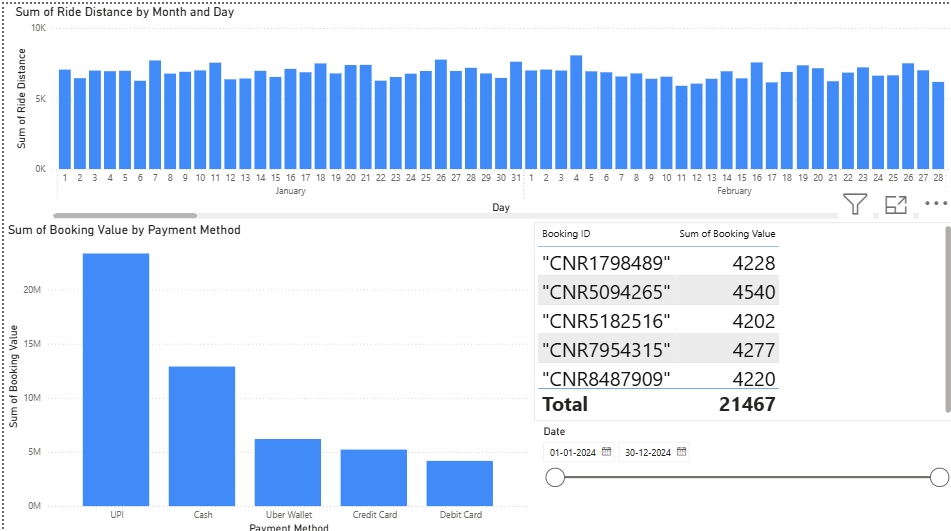

Layout of this report page (visuals, bound fields, positions):
{"tool":"powerbi","page":{"name":"Revenue","canvas":[1280,720],"ordinal":3},"visuals":[{"type":"columnChart","fields":{"Category":["rideBookings.Date.Variation.Date Hierarchy.Month","rideBookings.Date.Variation.Date Hierarchy.Day"],"Y":["Sum(rideBookings.Ride Distance)"]},"box":[10.8,0,1269,294.8],"z":0},{"type":"columnChart","fields":{"Category":["rideBookings.Payment Method"],"Y":["Sum(rideBookings.Booking Value)"]},"box":[0,294.8,713.6,426],"z":1000},{"type":"slicer","fields":{"Values":["rideBookings.Date"]},"box":[713.6,562.6,566.2,158.2],"z":2000},{"type":"tableEx","fields":{"Values":["rideBookings.Booking ID","Sum(rideBookings.Booking Value)"]},"box":[713.6,294.8,566.2,267.8],"z":3000}]}

Visuals, with their boxes in screenshot pixels (x1, y1, x2, y2), scaled from the page's 1280x720 canvas onto the 951x531 screenshot:
columnChart - rideBookings.Date.Variation.Date Hierarchy.Month x rideBookings.Date.Variation.Date Hierarchy.Day: <region>8, 0, 950, 217</region>
columnChart - rideBookings.Payment Method x Sum(rideBookings.Booking Value): <region>0, 217, 530, 530</region>
slicer - rideBookings.Date: <region>530, 415, 950, 530</region>
tableEx - rideBookings.Booking ID x Sum(rideBookings.Booking Value): <region>530, 217, 950, 415</region>
